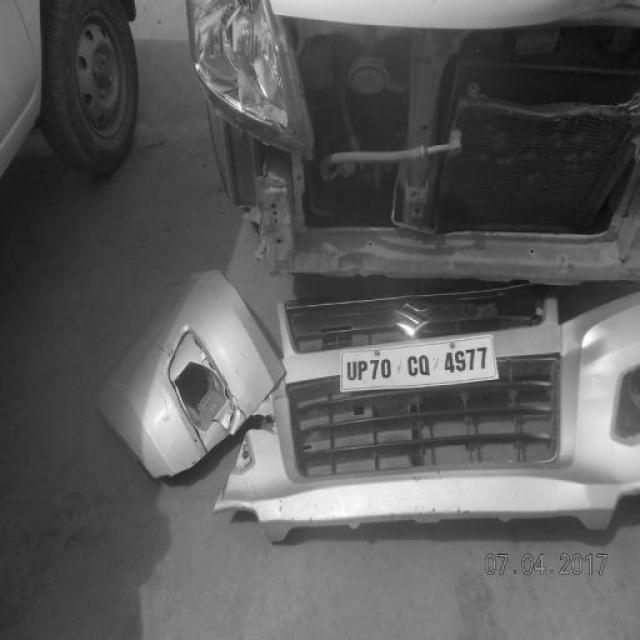crush: (174, 8, 639, 306)
